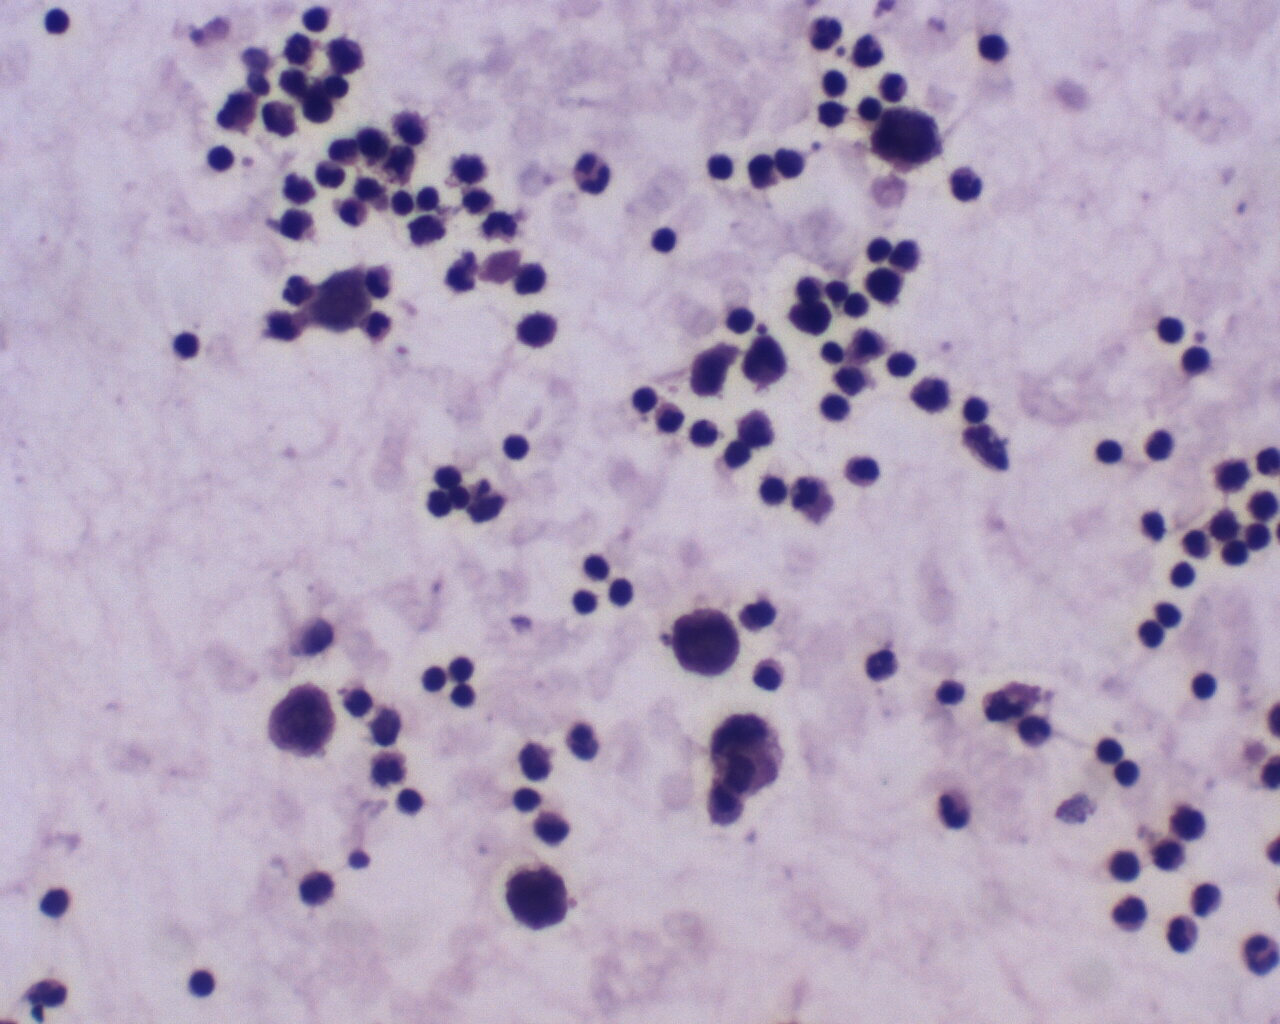ab: (261, 680, 345, 760), (666, 600, 743, 681), (865, 104, 948, 171), (505, 862, 575, 931)
lymph: (509, 782, 549, 821), (167, 326, 210, 363), (1093, 430, 1128, 474), (36, 882, 76, 918), (750, 652, 783, 696), (818, 388, 856, 425), (499, 426, 536, 465), (203, 141, 239, 179), (884, 346, 921, 382), (1180, 341, 1215, 378), (648, 222, 683, 257), (702, 146, 734, 186), (975, 31, 1009, 67), (1154, 312, 1189, 347), (185, 967, 219, 1002), (41, 4, 76, 39), (959, 392, 994, 427), (1188, 670, 1221, 706), (393, 785, 427, 818), (819, 69, 854, 100), (1167, 559, 1198, 591), (630, 383, 662, 415), (1112, 757, 1142, 789), (419, 664, 448, 697), (1093, 734, 1123, 765), (865, 235, 897, 265), (571, 586, 598, 616)
neutro: (932, 787, 982, 838), (571, 149, 616, 199), (1239, 931, 1280, 981), (1109, 893, 1151, 938), (863, 641, 903, 684), (945, 164, 988, 204), (1163, 911, 1202, 956), (805, 11, 844, 52), (359, 307, 397, 346), (689, 413, 723, 449)
